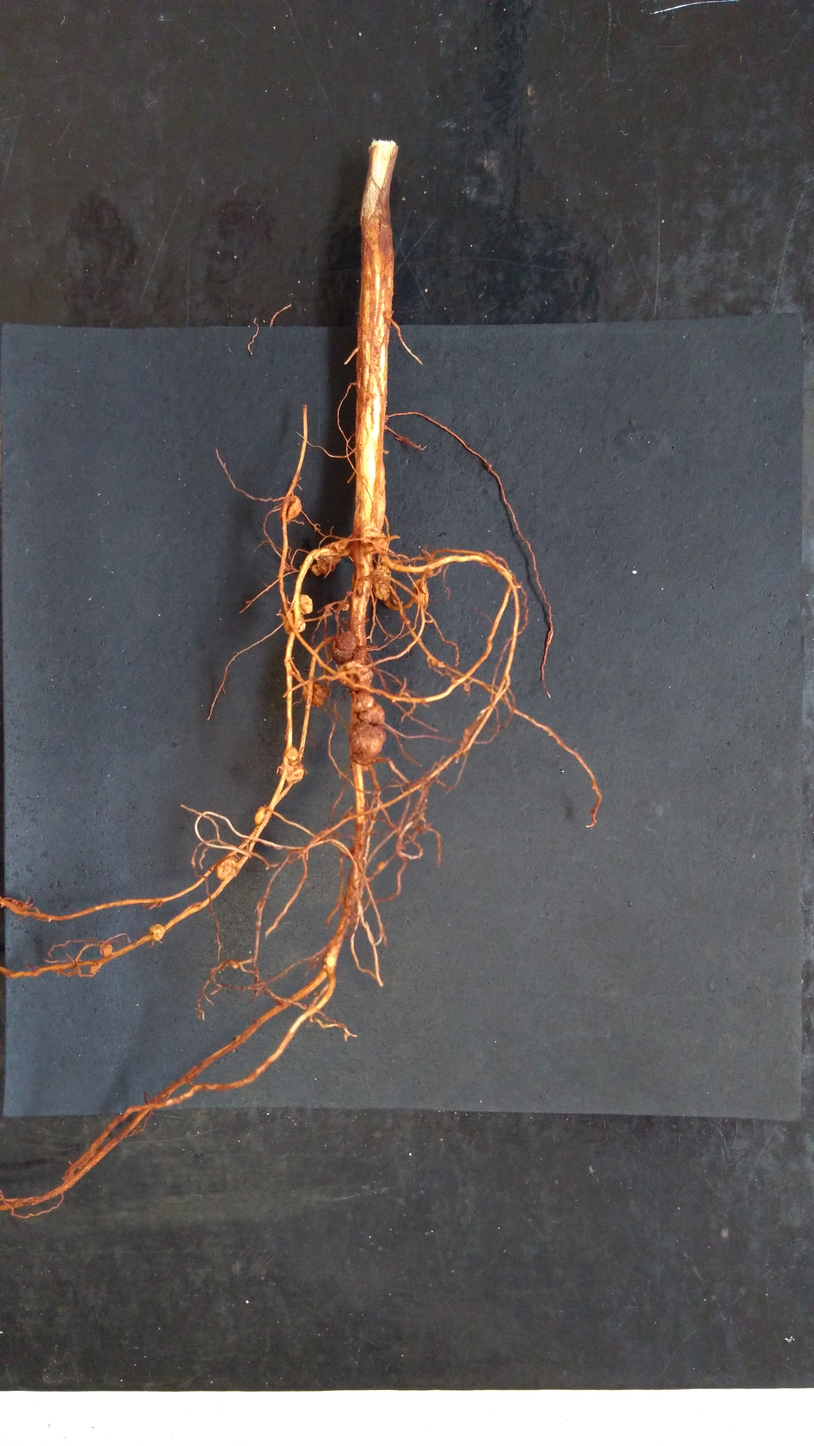nodule: (346, 722, 389, 768), (357, 523, 391, 557), (336, 662, 375, 691), (309, 546, 342, 578), (299, 680, 334, 709), (372, 563, 398, 602), (328, 631, 360, 662), (278, 492, 304, 524), (408, 574, 431, 608), (214, 855, 241, 882), (357, 701, 387, 725), (350, 690, 376, 715), (278, 762, 306, 784), (145, 919, 168, 945), (298, 592, 315, 616), (252, 804, 269, 826), (95, 941, 117, 958), (291, 616, 309, 636), (286, 743, 302, 763)
